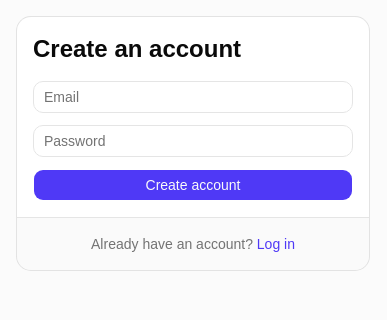
Test: RegisterPage › shows the API validation messages
Type "ada@example.com" into the field with placeholder "Email".
click(193, 97); type("ada@example.com")  # box x1=33 y1=81 x2=353 y2=113
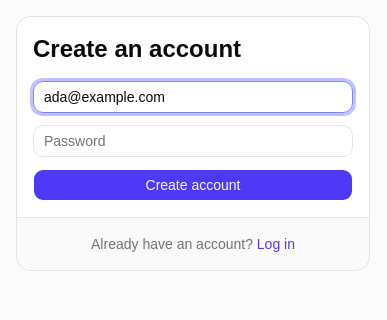
Type "x" into the password field with placeholder "Password".
click(193, 141); type("x")  # box x1=33 y1=125 x2=353 y2=157
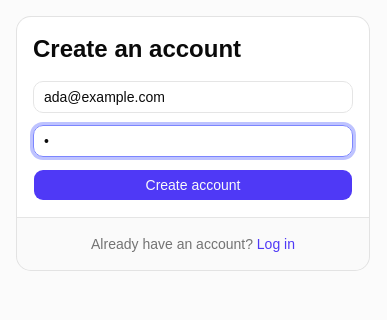
Click the button "Create account".
click(193, 185)  # box x1=33 y1=169 x2=353 y2=201
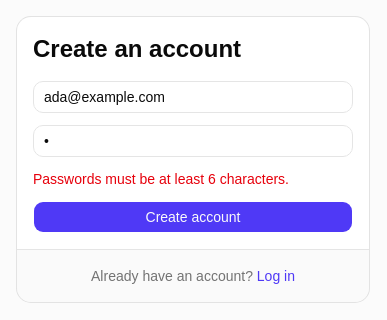
Now the message reads "Passwords must be at least 6 characters.", box x1=33 y1=171 x2=289 y2=187
